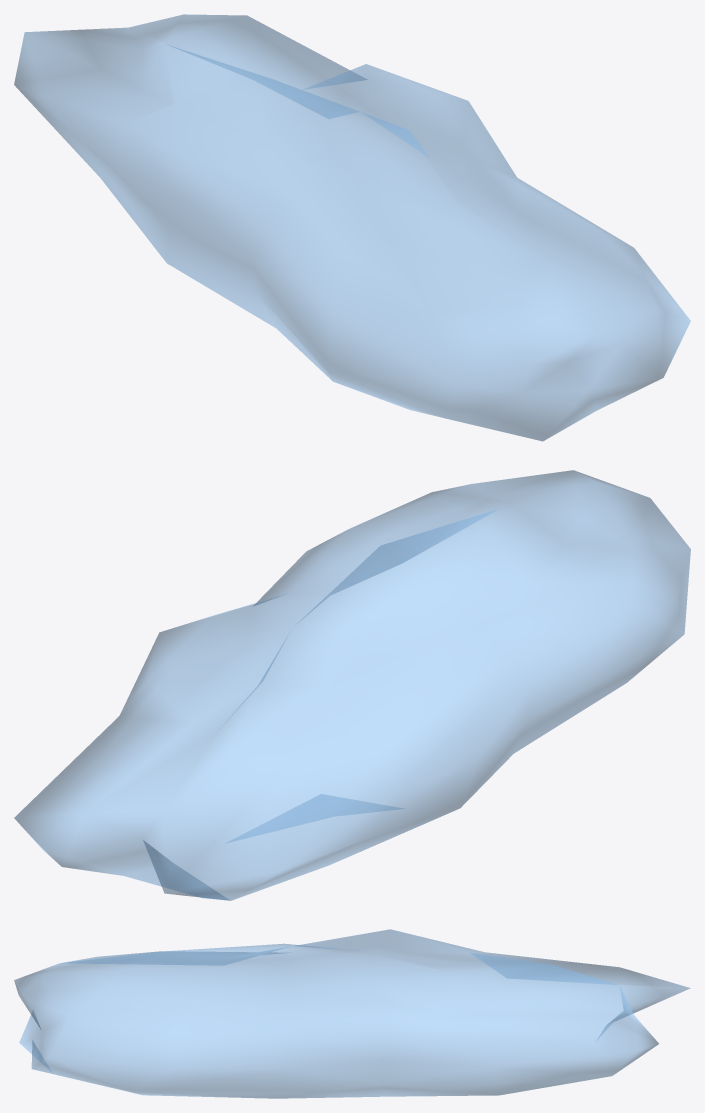
File: thalsey_shield.gltf
3 views of the same model, one above another, from view 1: azimuth 30°, elevation 25°; view 2: azimuth 150°, elevation 25°; view 3: azimuth 270°, elevation 25° (orthographic). The views are drawn at different scales.
Visible parts, largest first — view 1: thalsey.shield; view 2: thalsey.shield; view 3: thalsey.shield.
Part boxes in pixels (<box>): thalsey.shield: <box>14,14,690,441</box>; thalsey.shield: <box>14,470,690,900</box>; thalsey.shield: <box>14,929,690,1098</box>.
Size of the model in its own units: 18.45 by 10.27 by 46.5.
